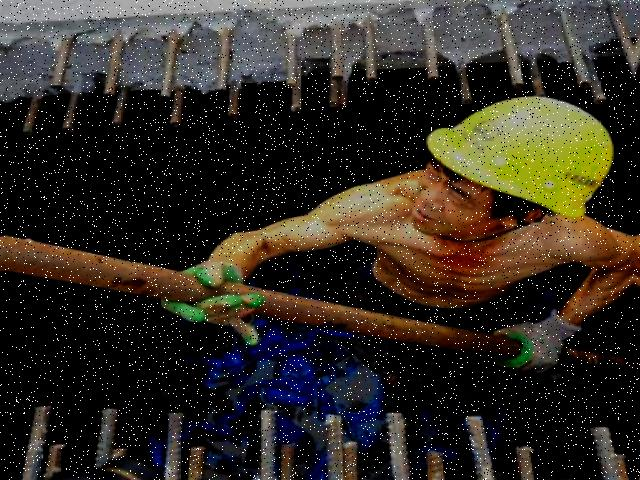Helmet: (419, 88, 615, 222)
